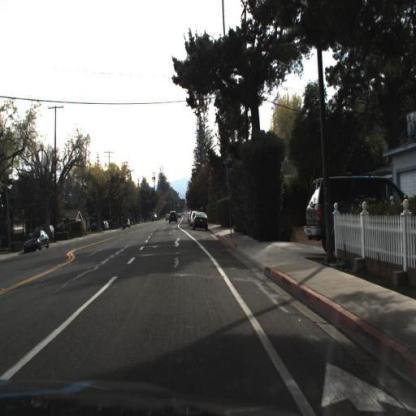car: (305, 176, 416, 255), (23, 228, 54, 255), (192, 211, 211, 234)
